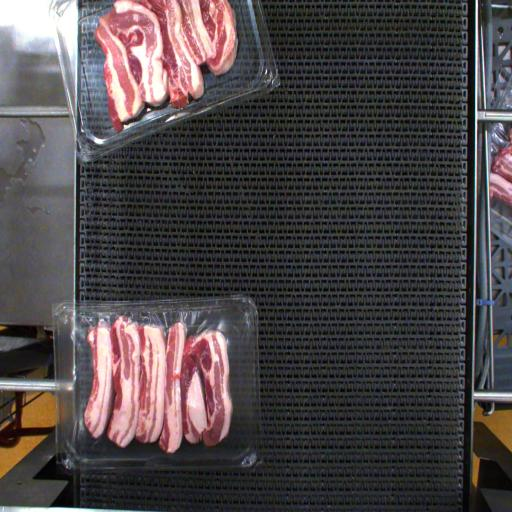unsealed: (52, 309, 259, 447)
